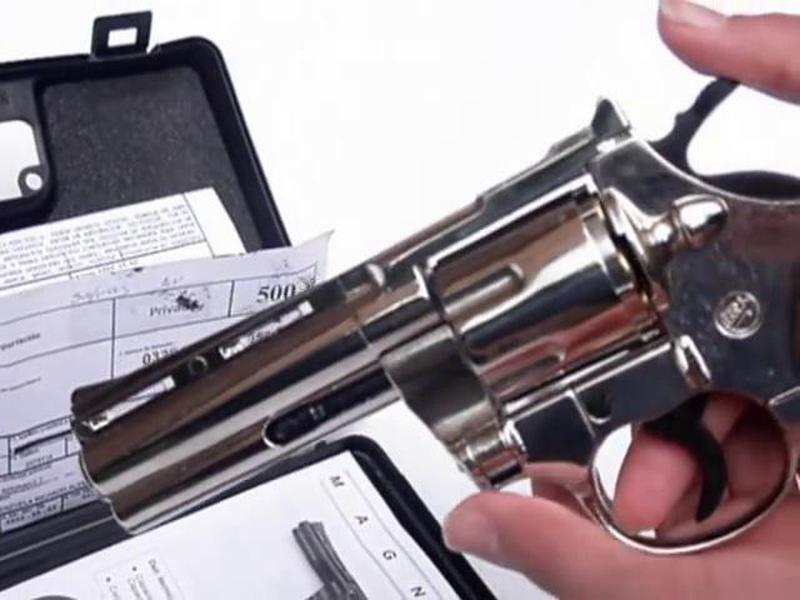Revolver: (80, 92, 800, 546)
